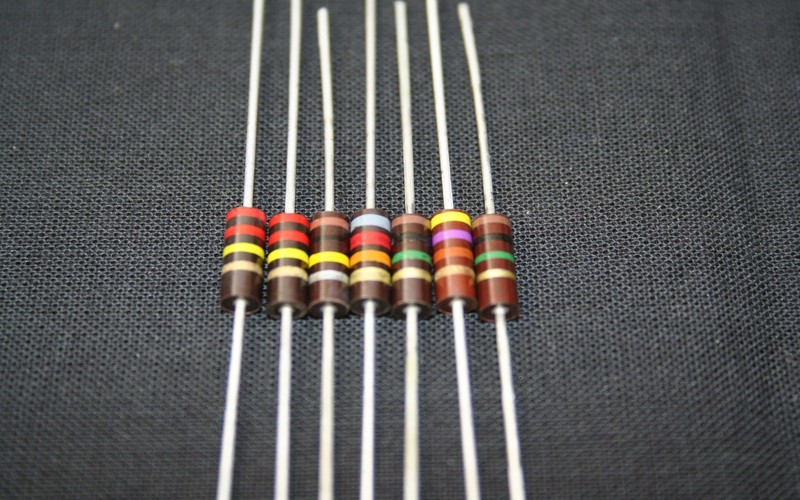Resistor: (204, 176, 558, 355)
